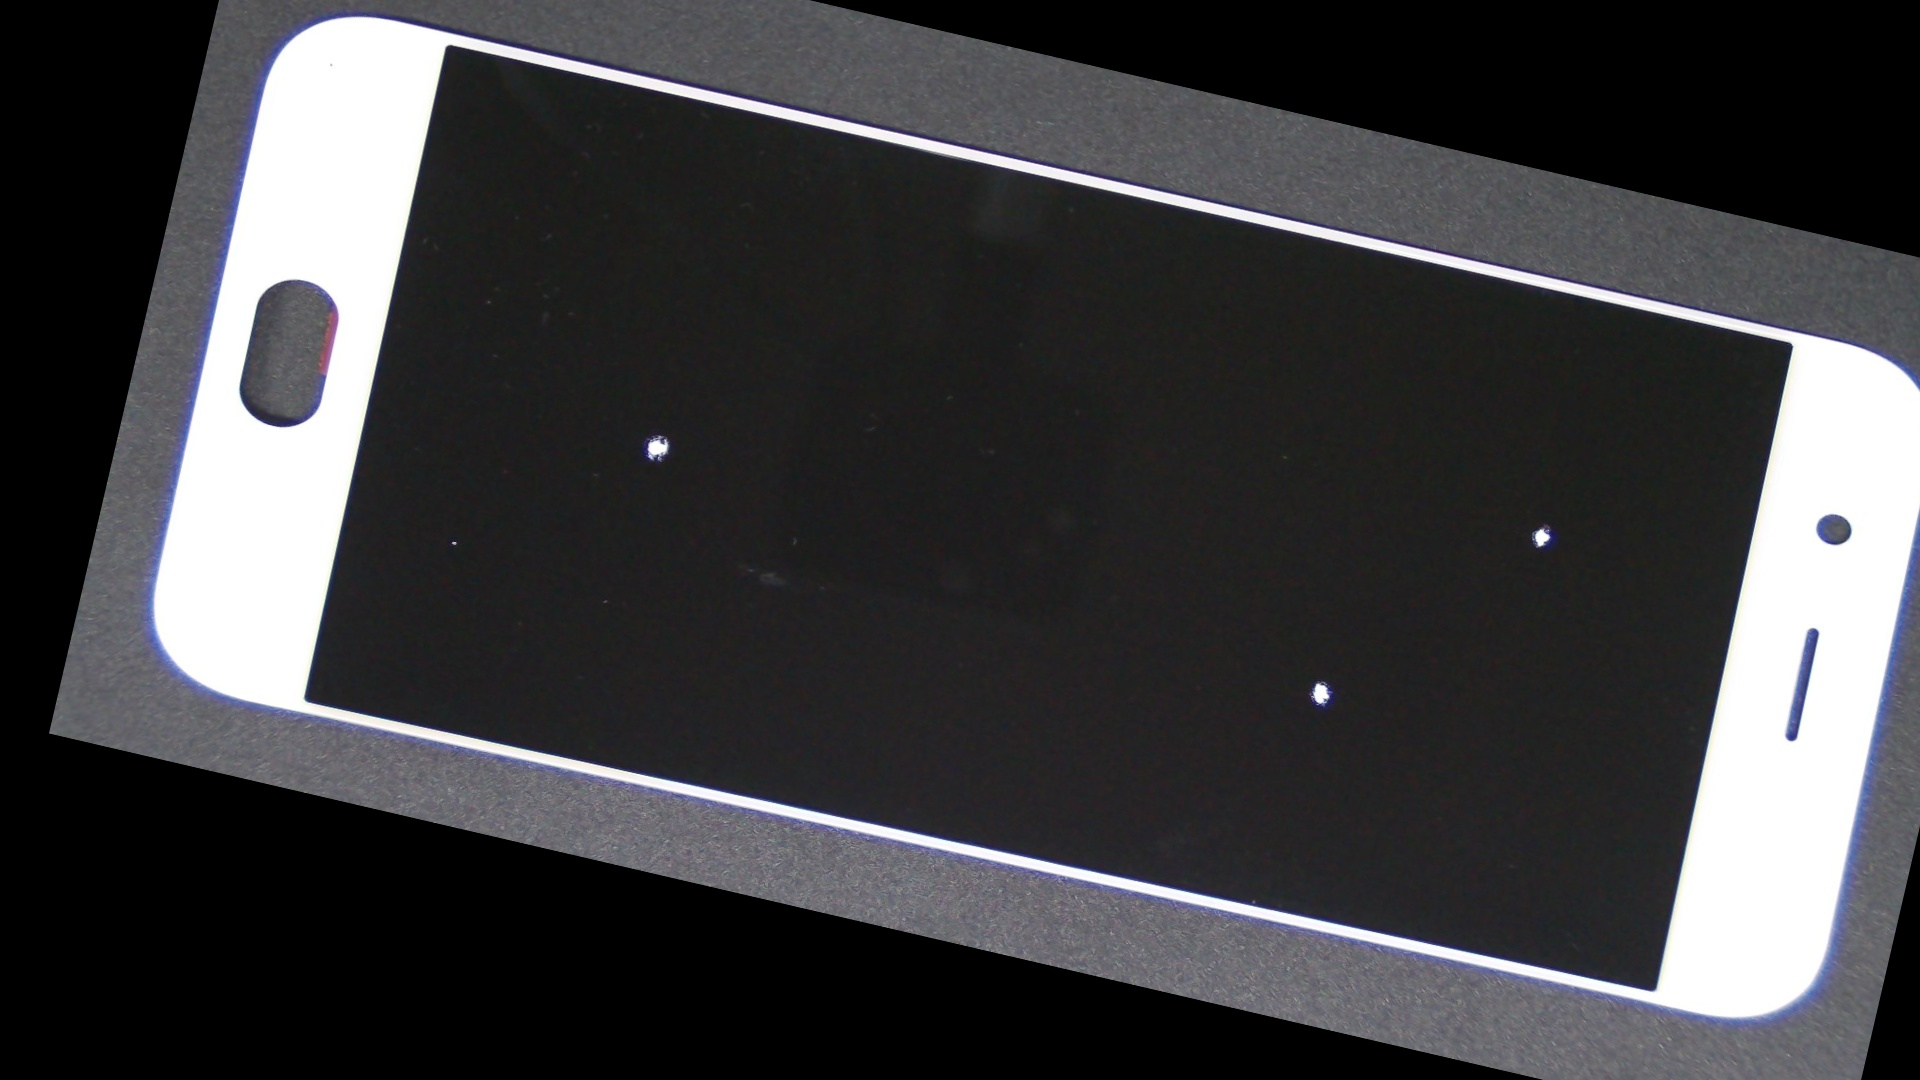oil: (663, 274, 1920, 1080), (820, 195, 1920, 789), (353, 153, 973, 719)
